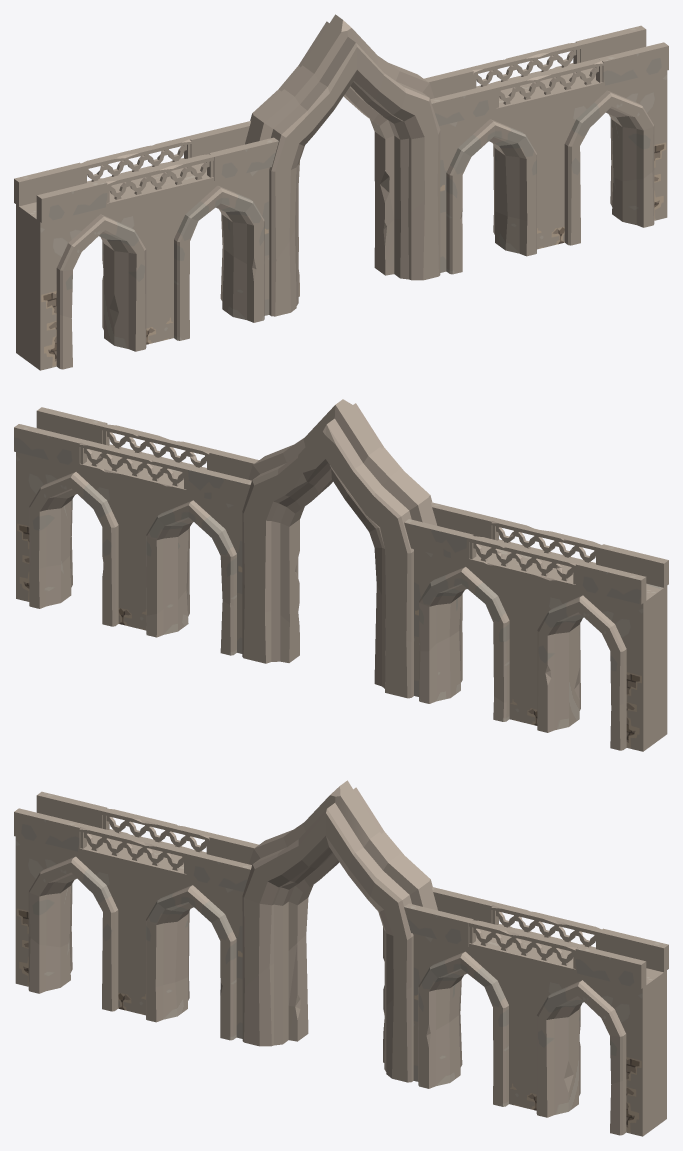
Rendered from SM_Bld_Archway_01.glb.
The picture shows the model from 3 angles, top to bottom: view 1: azimuth 30°, elevation 25°; view 2: azimuth 150°, elevation 25°; view 3: azimuth 330°, elevation 25°; orthographic projection.
Parts seen in each view (by area): view 1: SM_Bld_Archway_01; view 2: SM_Bld_Archway_01; view 3: SM_Bld_Archway_01.
Boxes of the visible parts, x1,y1,x2,y2 form: SM_Bld_Archway_01: (14, 14, 668, 370); SM_Bld_Archway_01: (14, 399, 668, 751); SM_Bld_Archway_01: (14, 780, 668, 1136).
Bounding box in the file's own units: 18.52 × 7.52 × 1.74.
Materials: 1 (1 with a texture image).
